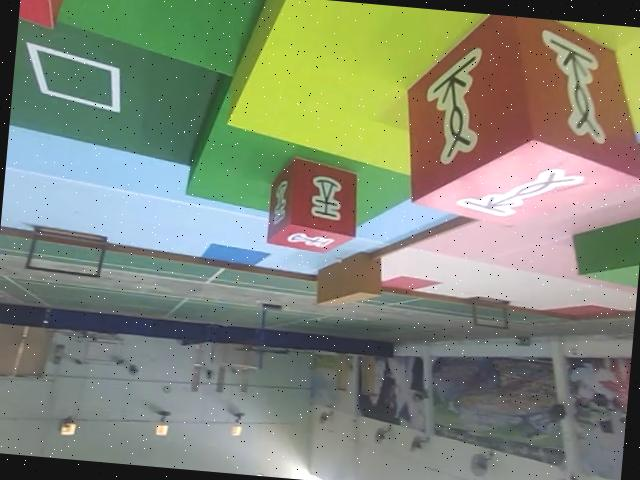R2 Real: (390, 7, 640, 243), (262, 153, 364, 259)
